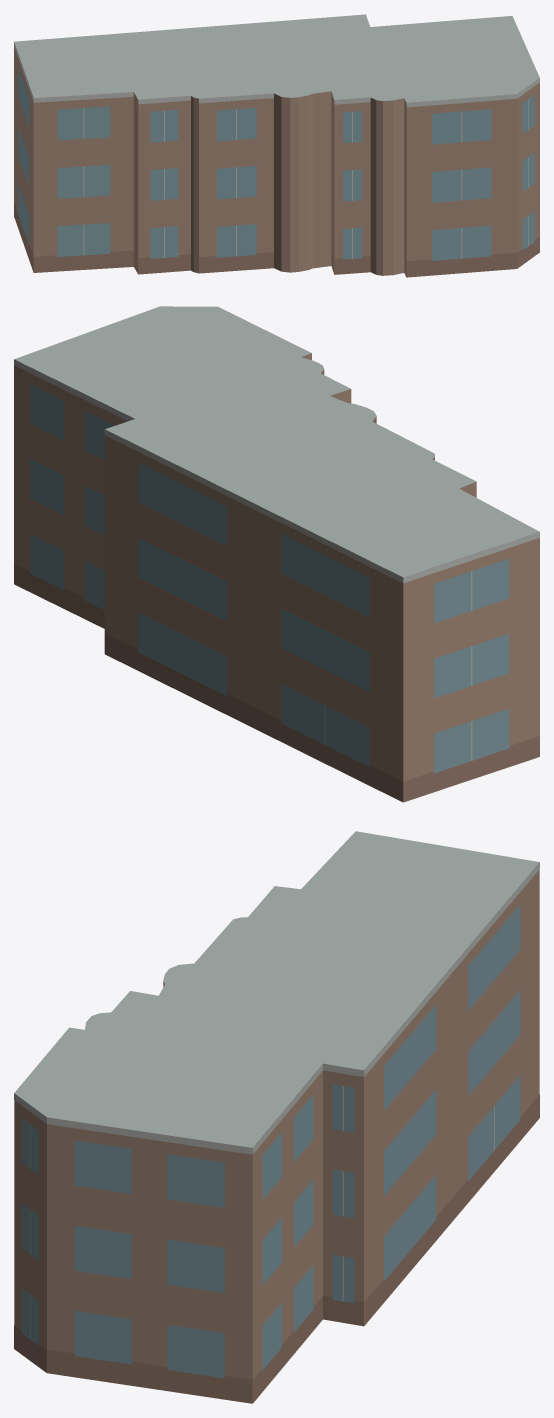
Rendered from survey-upis-32598303.glb.
3 renders of one model, top to bottom at view 1: azimuth 30°, elevation 25°; view 2: azimuth 150°, elevation 25°; view 3: azimuth 270°, elevation 25°, orthographic. The views are drawn at different scales.
Parts seen in each view (by area): view 1: survey-upis-32598303.tmp; view 2: survey-upis-32598303.tmp; view 3: survey-upis-32598303.tmp.
Boxes of the visible parts, <box> form: survey-upis-32598303.tmp: <box>14,14,539,277</box>; survey-upis-32598303.tmp: <box>14,306,539,802</box>; survey-upis-32598303.tmp: <box>14,831,539,1403</box>.
Size of the model in its own units: 24.31 by 9.15 by 17.05.
